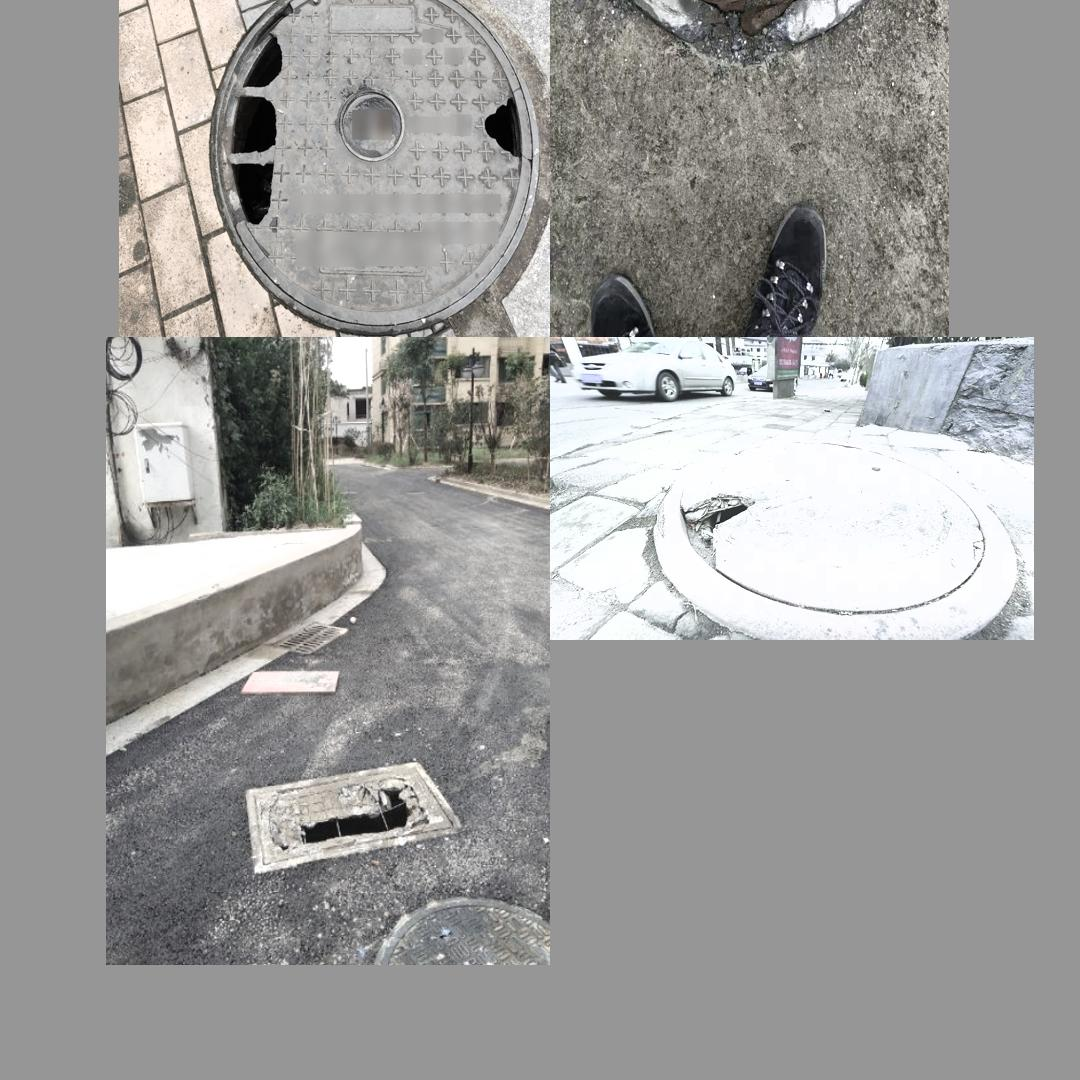broke: (218, 0, 533, 323), (680, 441, 986, 614), (245, 759, 461, 873), (554, 0, 940, 62)
good: (371, 898, 550, 962)
